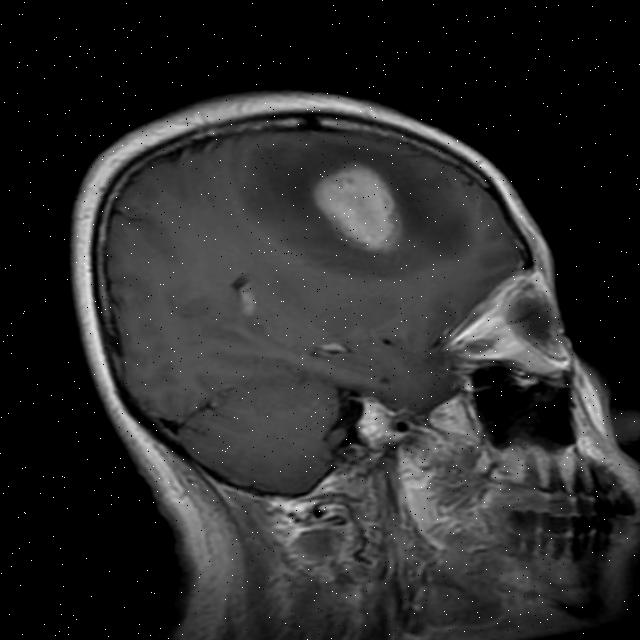Meningioma: (303, 151, 411, 263)
